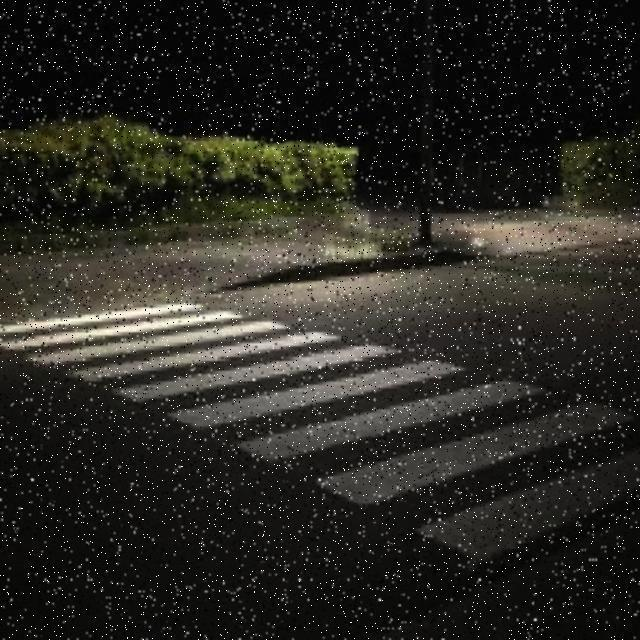crosswalk: (0, 297, 640, 571)
